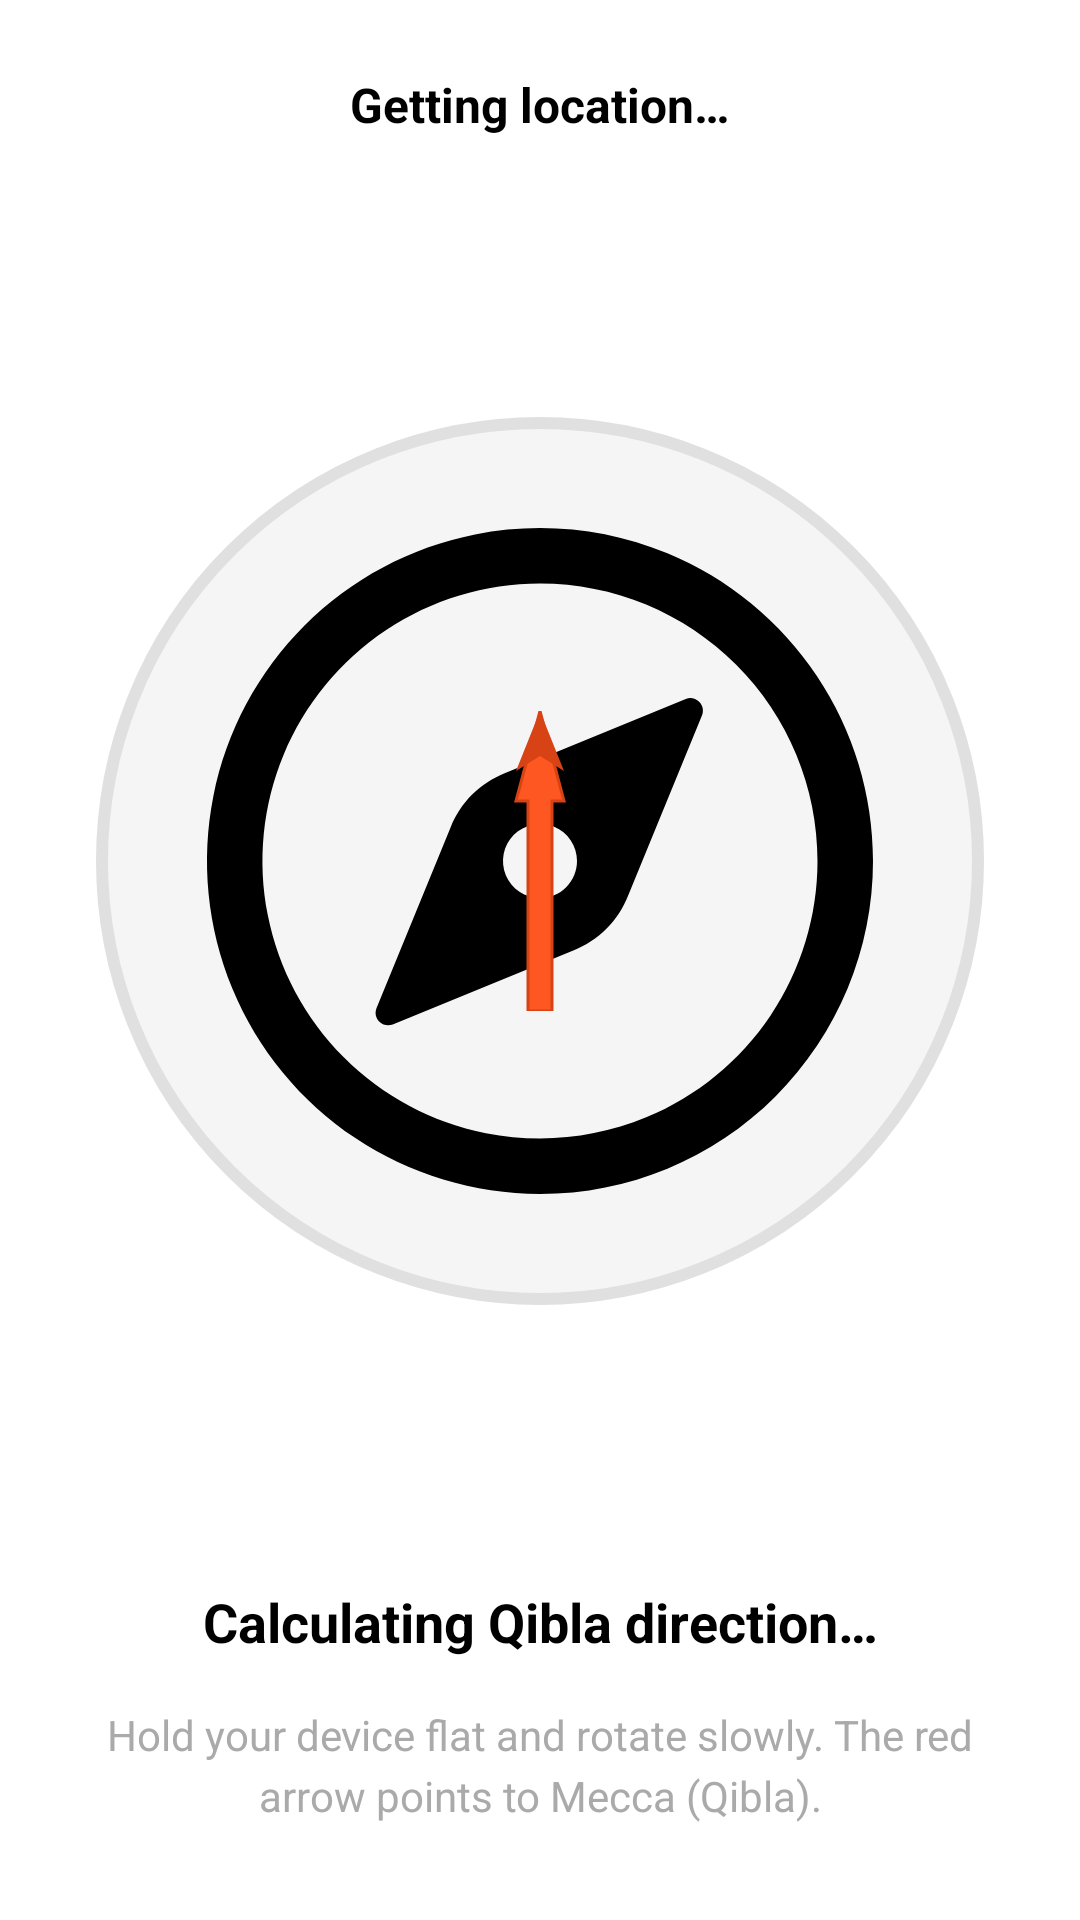

Screen size 1080 × 1920. Icon name, then its center in pixels as (x,y):
Qibla direction indicator: (540,861)
